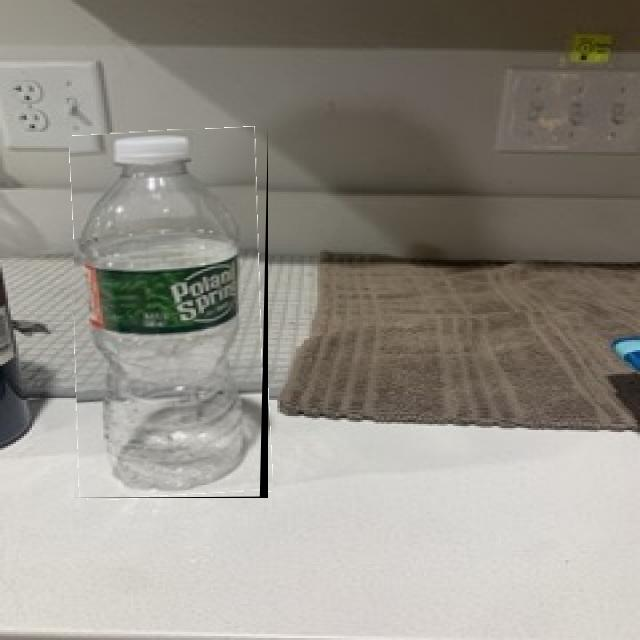water_bottle: (74, 129, 268, 498)
